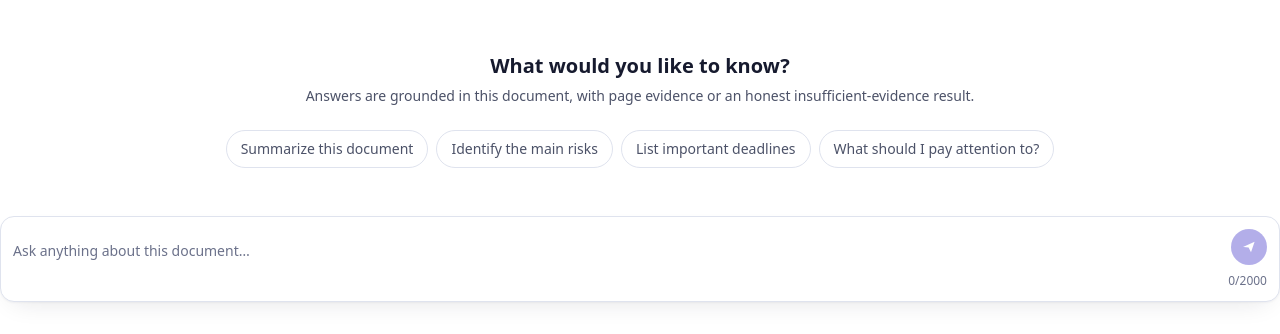
Test: AskDocuLens › returns to a recoverable preparation state when the index goes missing mid-session
This screenshot has width=1280, height=334.
Type "What applies?" into the text box labelled "Ask anything about this document" at (618, 251), box [13,237,1223,265]
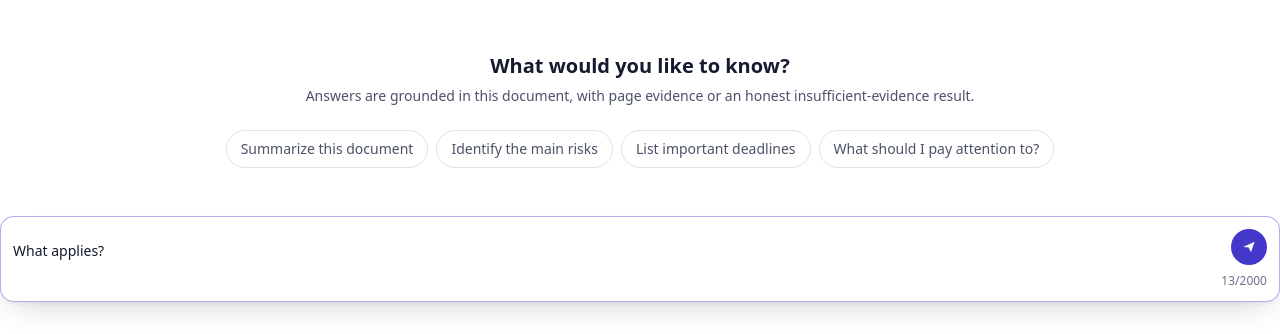
Click the button named "Send question" at (1249, 247), box [1231,229,1267,265]
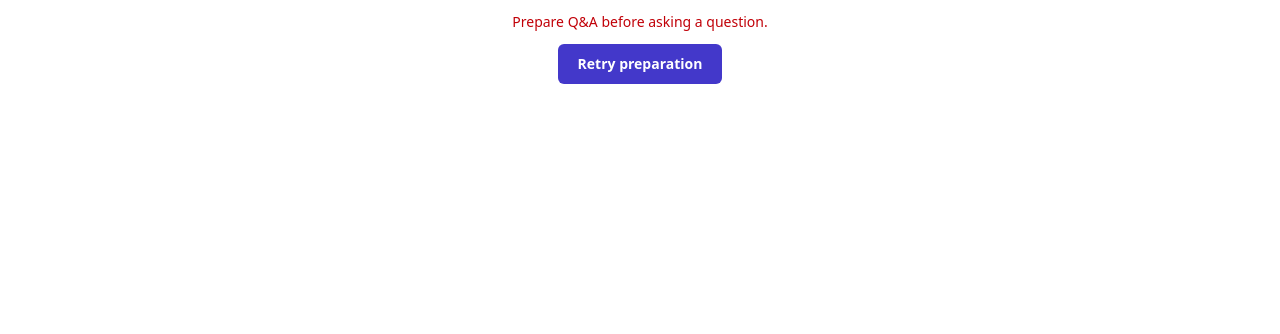
Check: the message reads "Prepare Q&A before asking a question.", box [512,12,768,31]
Check: the button "Retry preparation" is shown, box [558,44,722,84]
